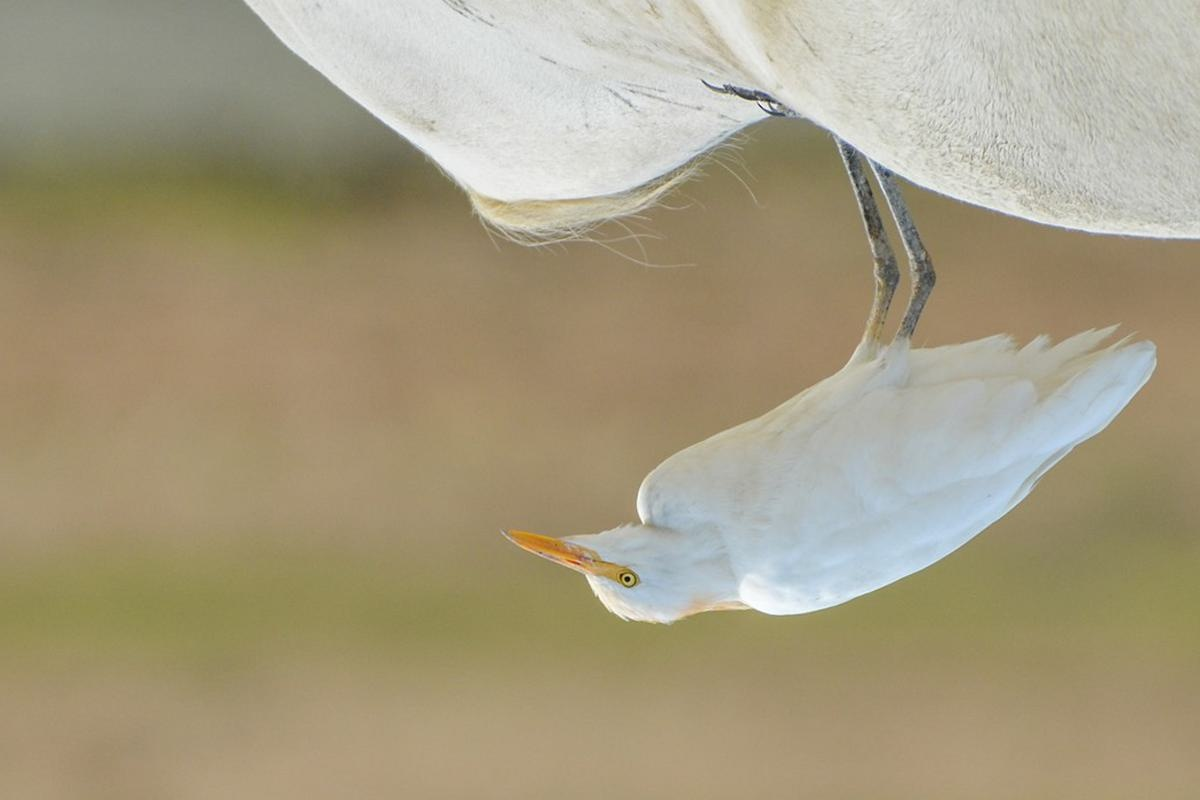egret: (496, 186, 1161, 637)
